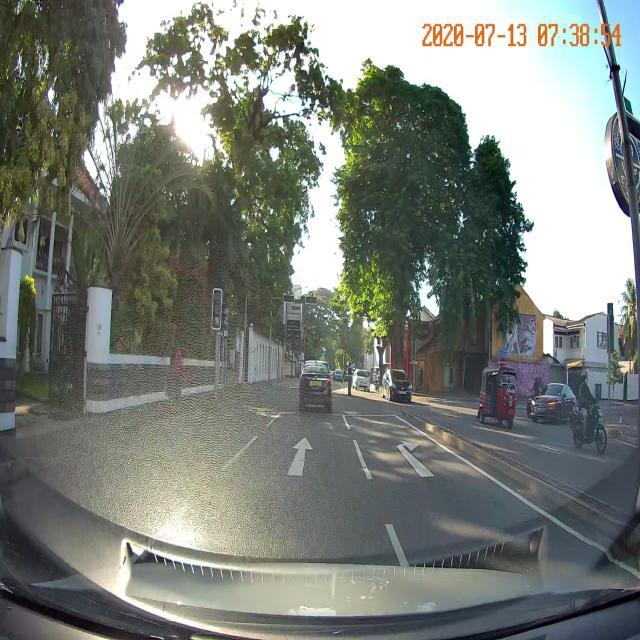forward: (204, 426, 376, 476)
